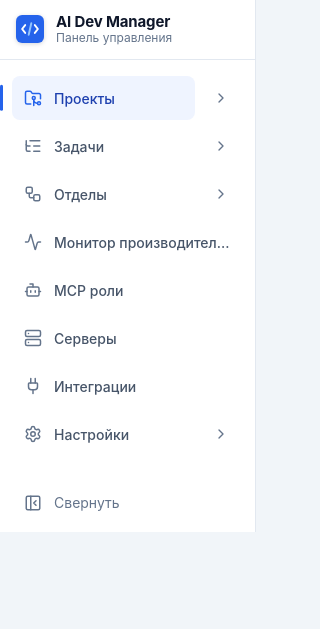
Sidebar — сворачиваемые категории навигации › раскрывает категорию по клику: показывает подсписок и ставит aria-expanded=true
Expected: the text "Проект Альфа" is not shown
Step 1. Click the button named "Раскрыть «Проекты»" → (221, 98), box [199, 76, 243, 120]
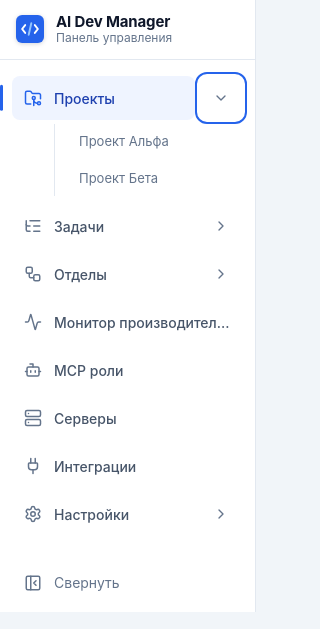
Result: the button named "Свернуть «Проекты»" is expanded at [199, 76, 243, 120]
Result: the link "Проект Альфа" is shown at [79, 133, 169, 149]
Result: the link "Проект Бета" is shown at [79, 170, 158, 186]
